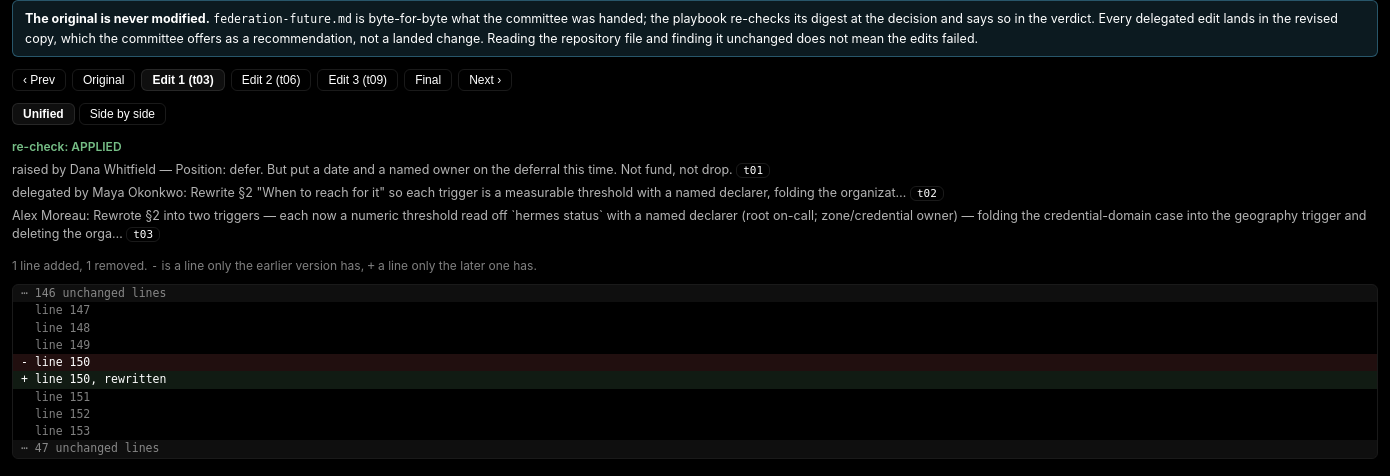
an edit diff opens on what changed › brings the first change into view as each step opens, with no hand scroll
Check: the element with test id "diff-rows" is shown, box left=12, top=284, right=1378, bottom=459
Check: the text "- line 150" is shown, box left=13, top=354, right=1377, bottom=372
Click the button "Next ›" at (485, 80), box left=458, top=69, right=512, bottom=91
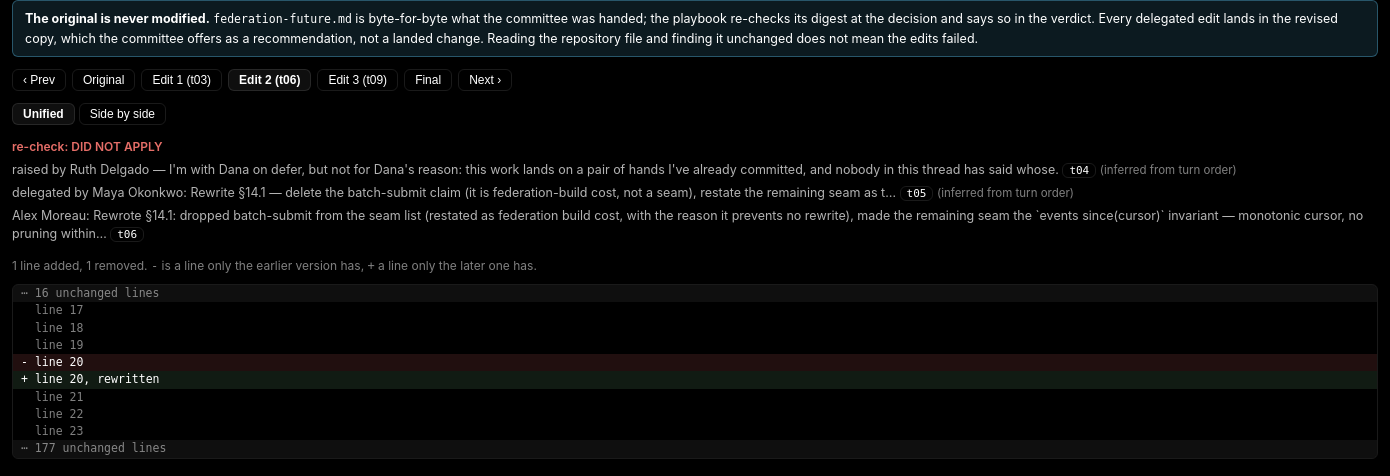
Check: the text "- line 20" is shown, box left=13, top=354, right=1377, bottom=372
Click the button with test id "step-prev" at (39, 80), box left=12, top=69, right=66, bottom=91
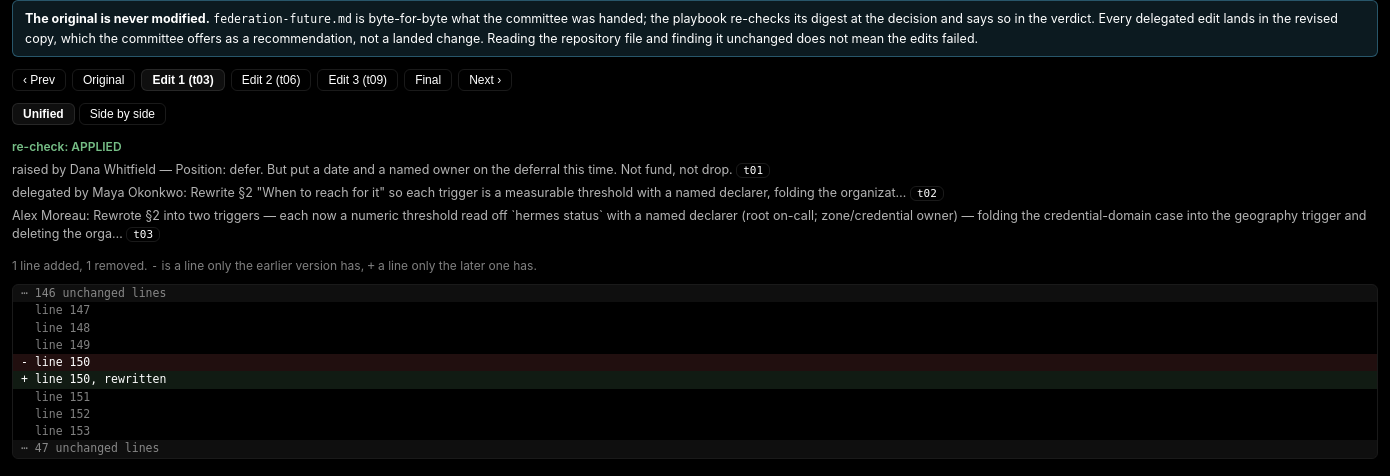
Check: the text "- line 150" is shown, box left=13, top=354, right=1377, bottom=372
